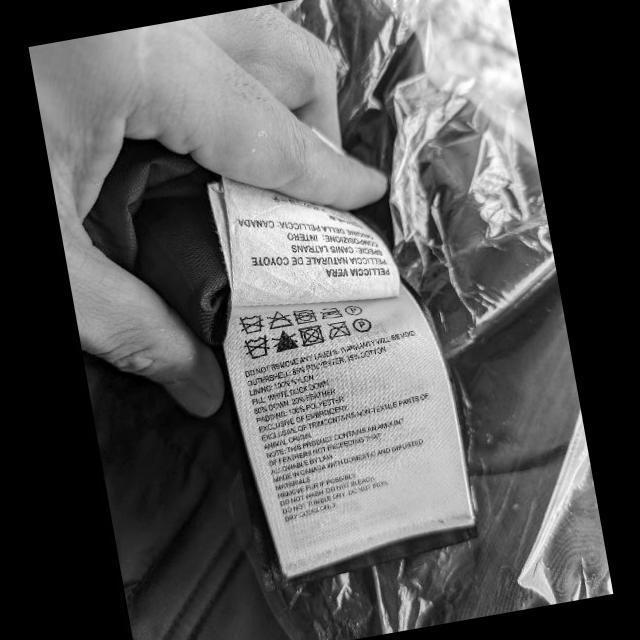DN_bleach: (269, 328, 299, 353), (264, 308, 294, 330)
DN_iron: (324, 319, 352, 341), (318, 304, 344, 322)
DN_tumble_dry: (296, 324, 326, 348), (290, 306, 318, 326)
DN_wash: (241, 334, 271, 361), (236, 312, 266, 336)
normal_dry_clean_solvents: (350, 316, 372, 334), (343, 304, 362, 316)
